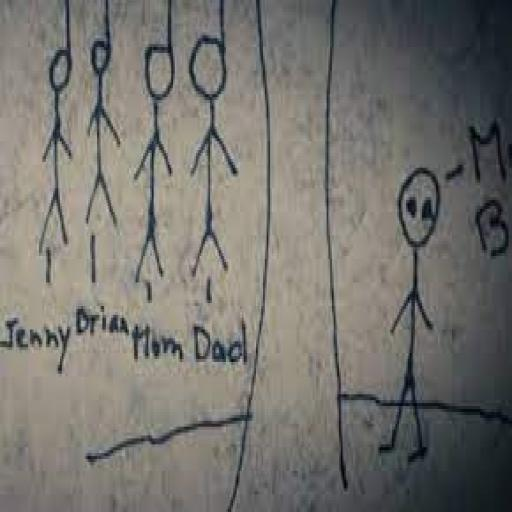person: (366, 152, 470, 488), (29, 30, 86, 296), (188, 24, 240, 308), (133, 24, 183, 306), (72, 34, 129, 240)
